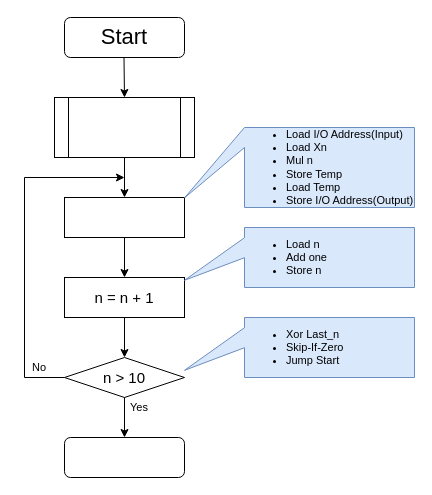
Some shapes in this 432 by 495 pixel diagram are drawn without their labels. The shapes that lost their labels are listed below. From the top down, each one's box as (x1, y1, x2, y2) in pixels, then its label:
(54, 96, 194, 158): Xn = 2 n = 1 Temp(output) = 중간결과
(64, 196, 184, 238): Temp(Output) = Xn * n
(64, 436, 184, 478): Halt
